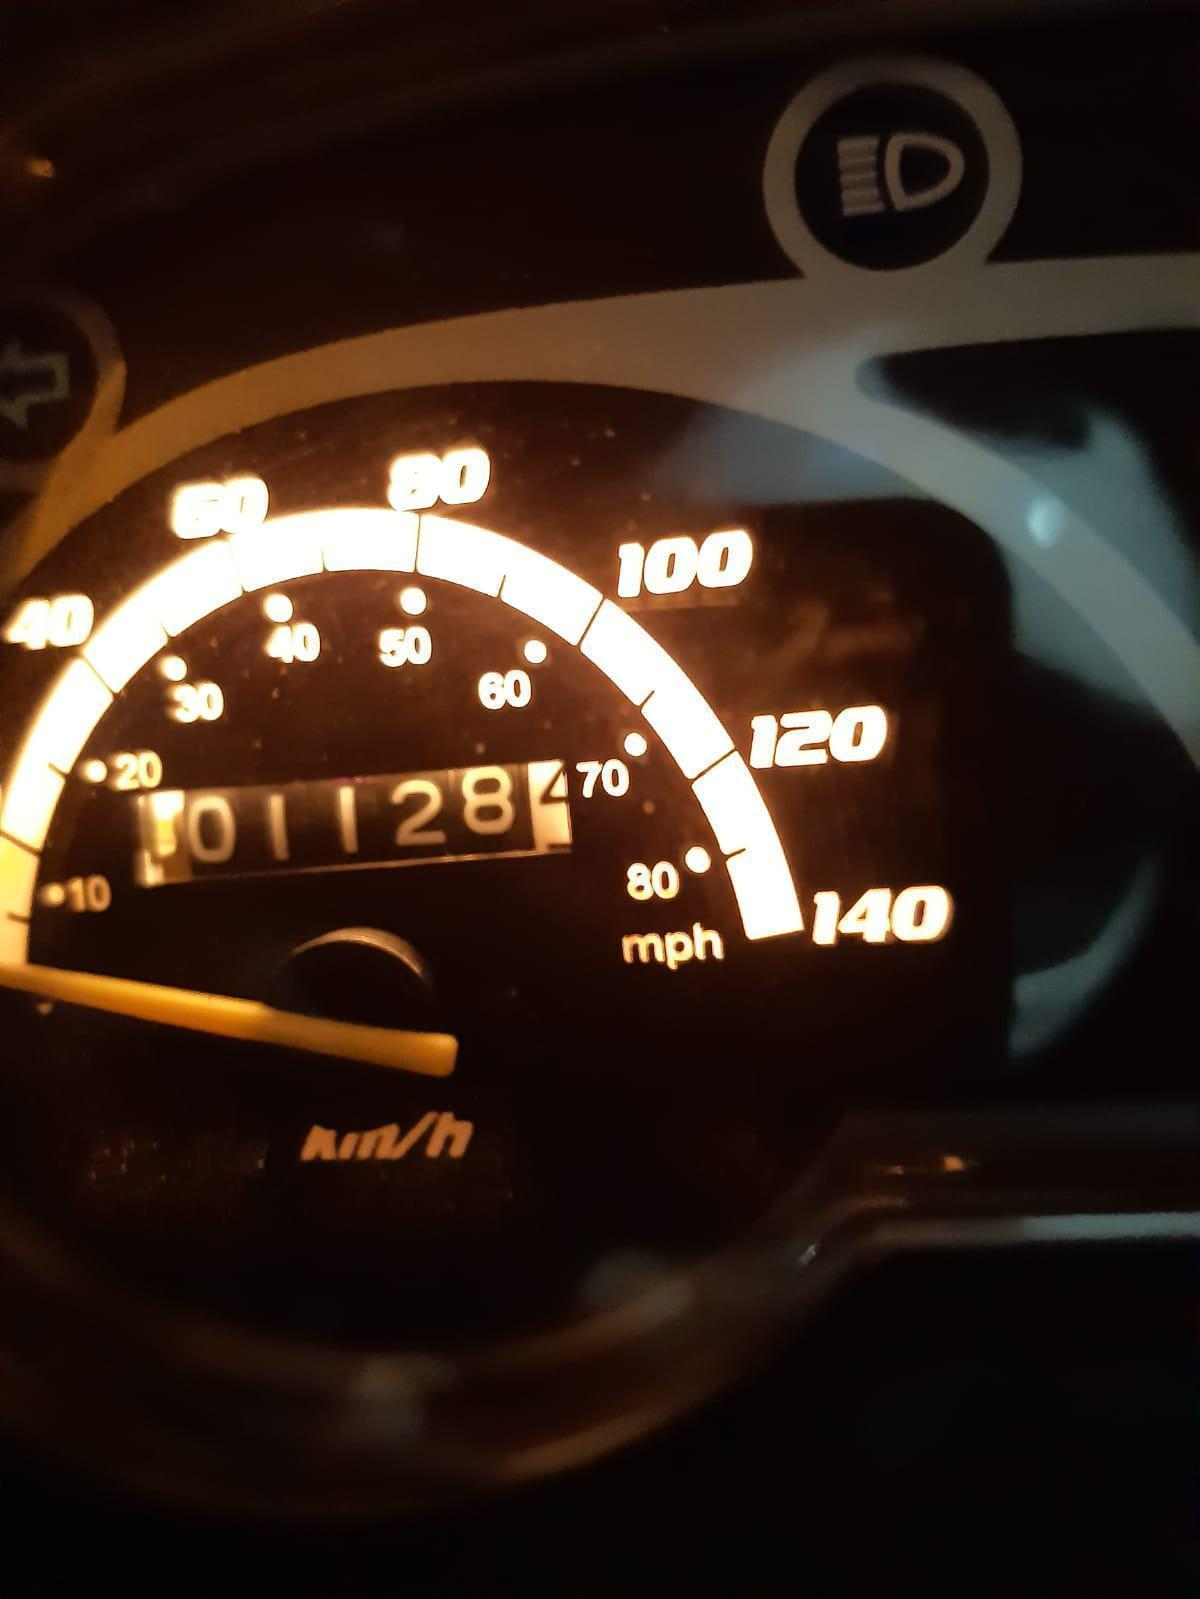0: (187, 789, 238, 869), (139, 751, 163, 788)
1: (321, 781, 376, 858), (253, 788, 300, 863)
2: (384, 774, 449, 845), (124, 754, 139, 791)
4: (529, 748, 574, 852)
8: (455, 765, 524, 844)
odometer: (122, 751, 579, 893)
